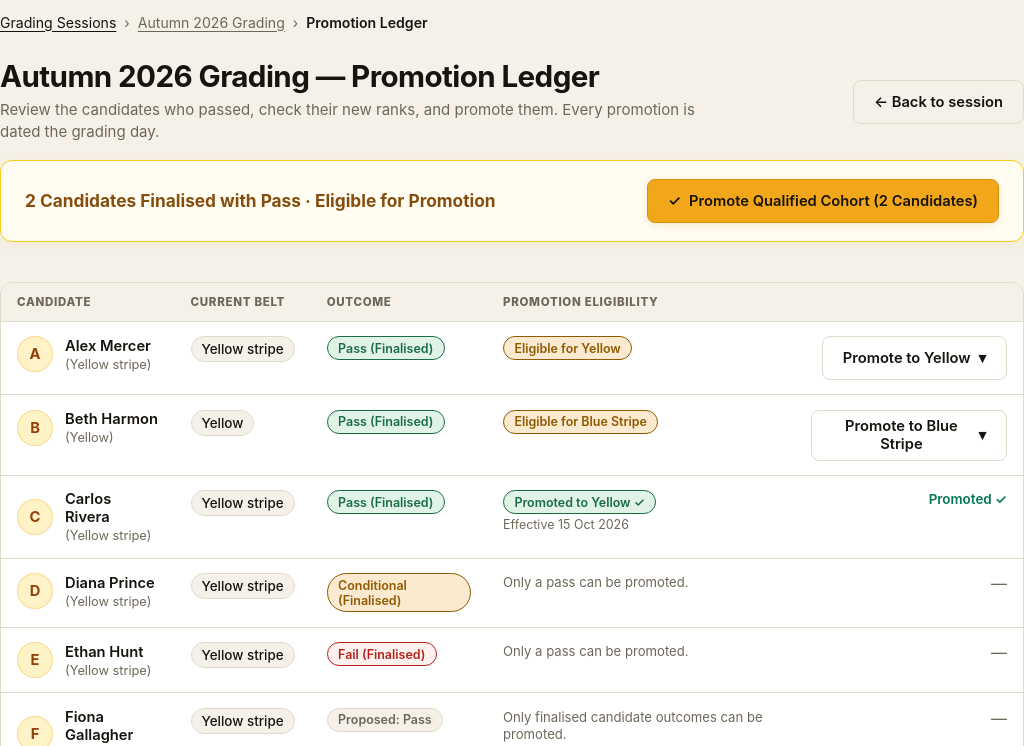
Test case: PromotionLedgerScreen › handles single candidate promotion confirmation dialog and API submission
Note: Open confirmation modal
Click the button with test id "promote-candidate-btn-101".
click(914, 358)  # box [822, 336, 1007, 380]
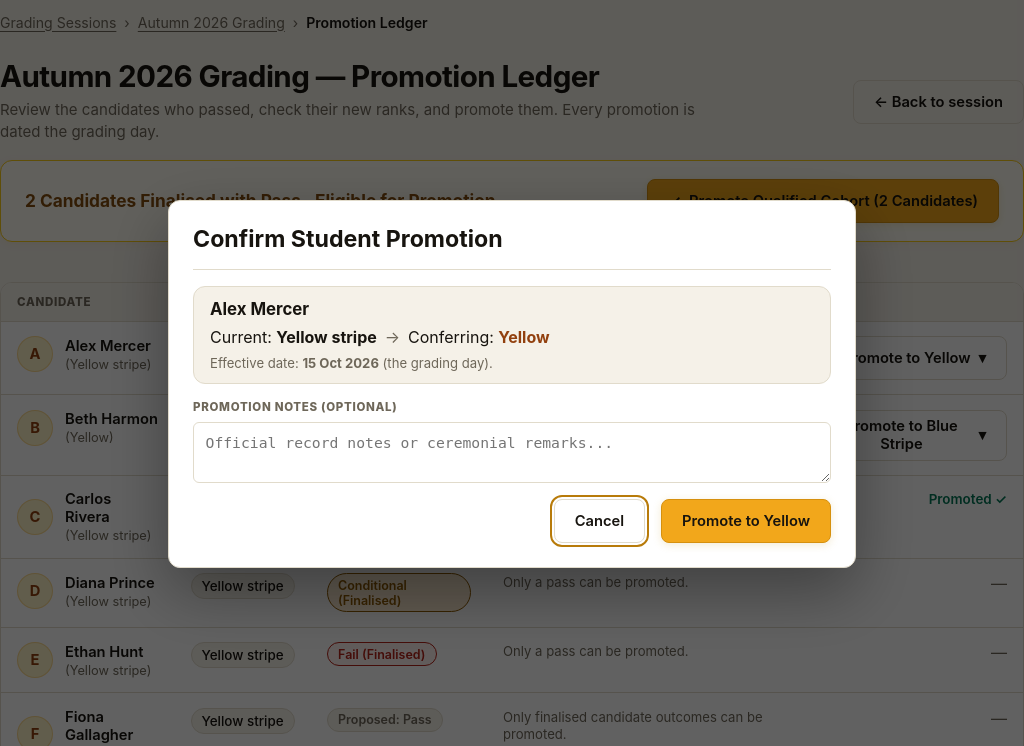
Now the dialog is shown, box [168, 200, 856, 568]
Now the heading "Confirm Student Promotion" is shown, box [193, 226, 503, 254]
Now the text "Alex Mercer" is shown, box [210, 300, 309, 320]
Note: Enter optional ceremonial remarks
Type "Demonstrated great focus" into the text box labelled "Promotion Notes (Optional)".
click(512, 453); type("Demonstrated great focus")  # box [193, 422, 831, 483]
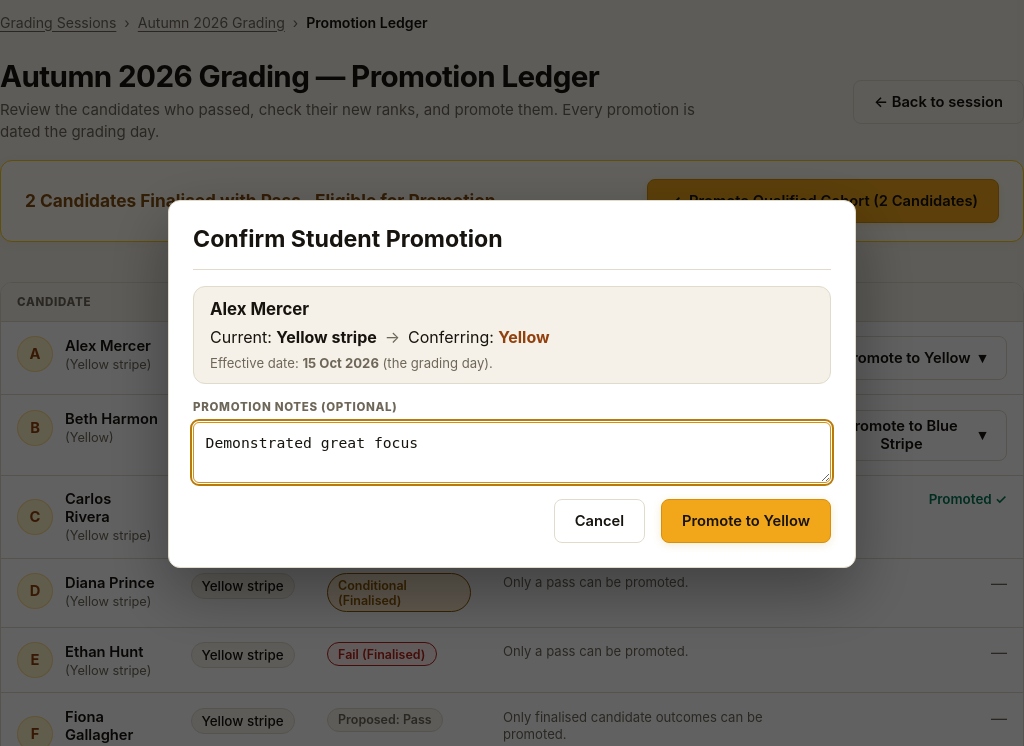
Note: Confirm promotion
Click the button "Promote to Yellow".
click(746, 520)  # box [661, 498, 831, 542]
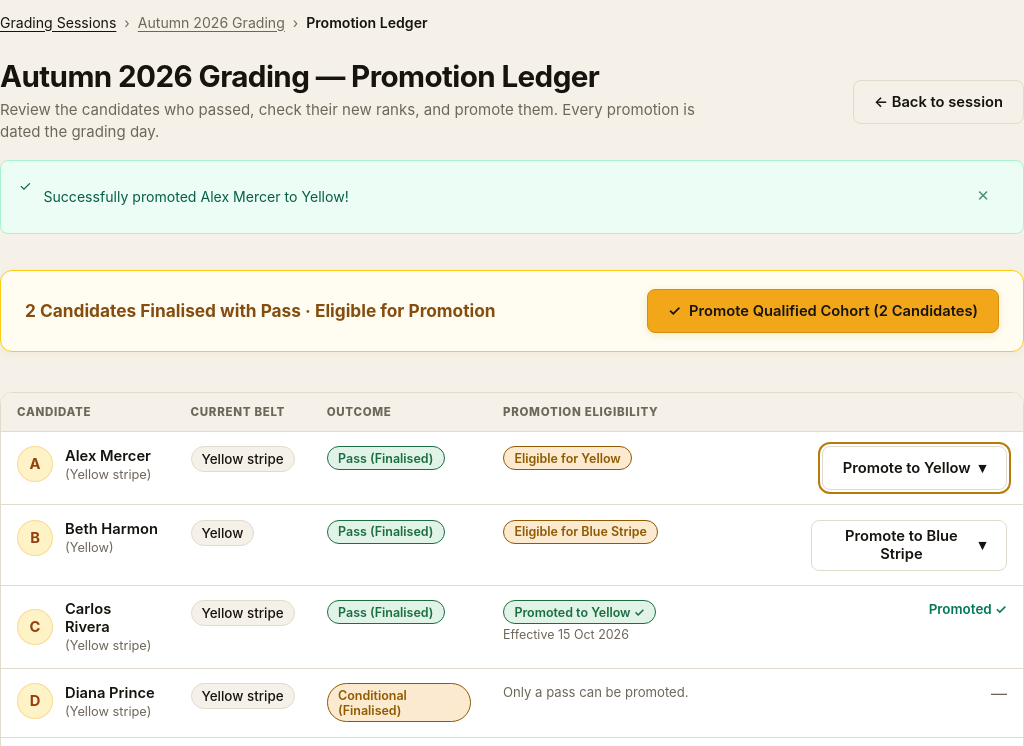
Now the text "Successfully promoted Alex Mercer to Yellow!" is shown, box [44, 186, 349, 207]
Now the dialog is gone
